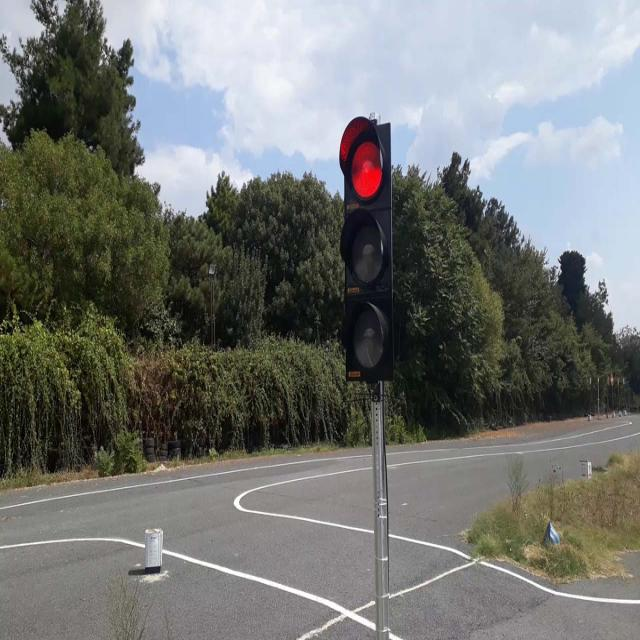kirmizi: (344, 121, 392, 379)
